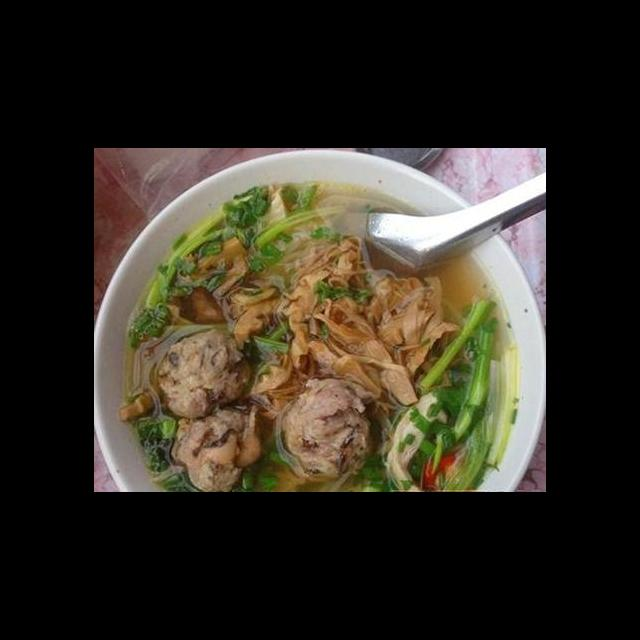vien moc: (275, 369, 375, 481), (153, 319, 260, 421), (168, 403, 268, 492)
